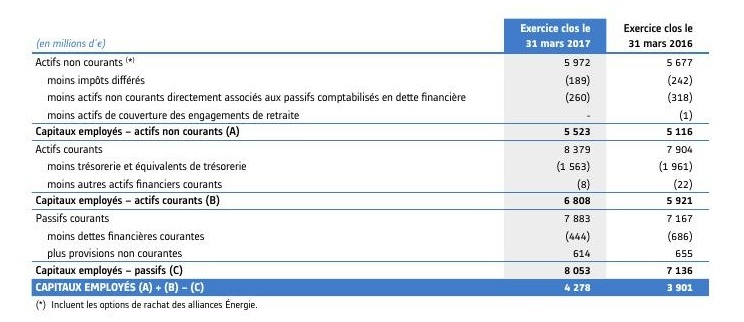table: (0, 0, 744, 322)
